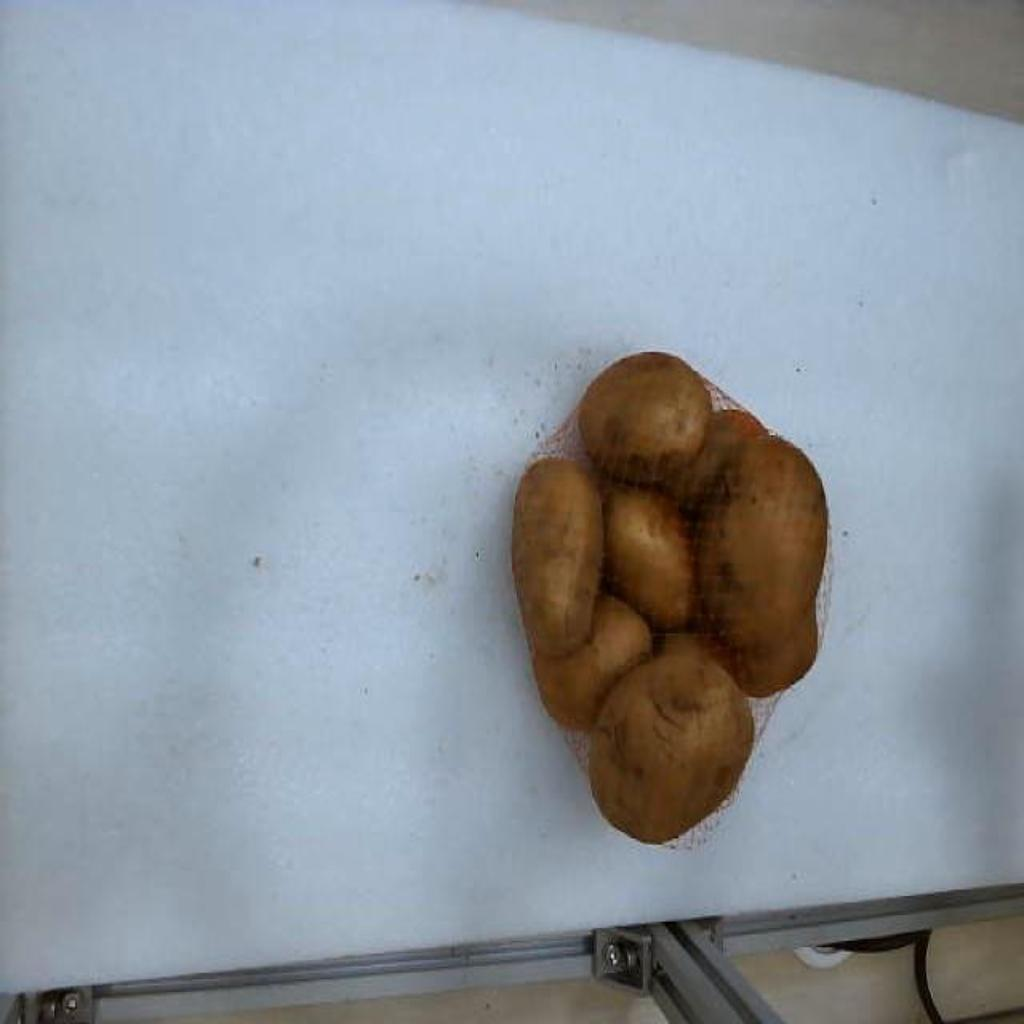potato: (694, 435, 828, 695), (590, 635, 754, 841), (512, 459, 604, 656), (578, 352, 710, 484), (534, 595, 652, 729), (606, 488, 694, 631), (664, 411, 768, 509)
